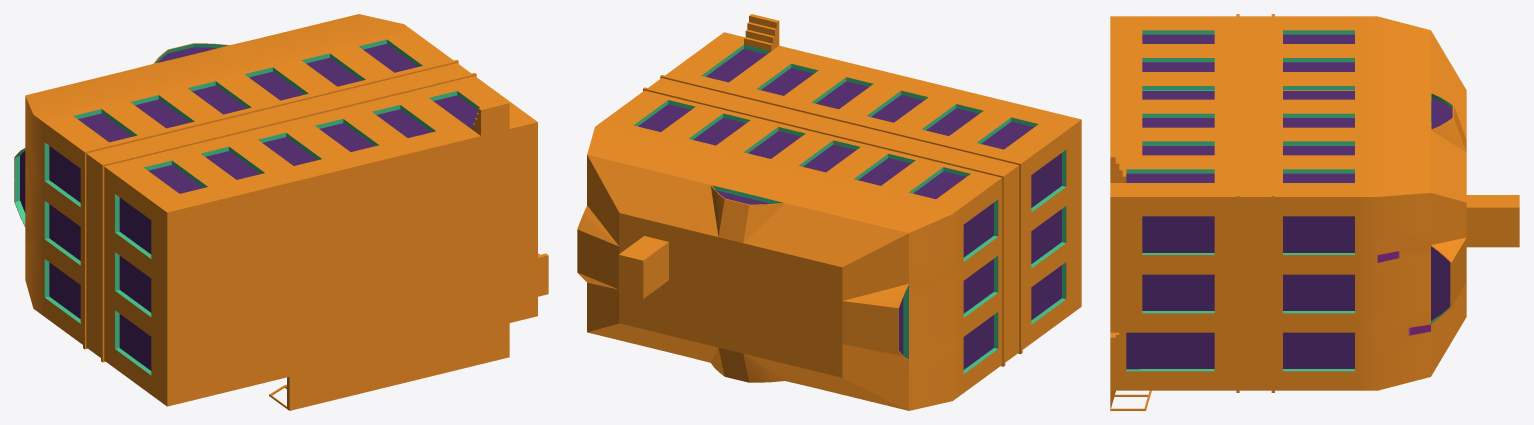
File: Dom Staroscinski.obj
3 views of the same model, side by side, from view 1: azimuth 30°, elevation 25°; view 2: azimuth 150°, elevation 25°; view 3: azimuth 270°, elevation 25° (orthographic). The views are drawn at different scales.
Parts seen in each view (by area): view 1: Dom_Starościński_Cube.002; view 2: Dom_Starościński_Cube.002; view 3: Dom_Starościński_Cube.002.
Boxes of the visible parts, box(x1,y1,x2,y2) form: Dom_Starościński_Cube.002: box(14, 14, 548, 410); Dom_Starościński_Cube.002: box(577, 14, 1081, 410); Dom_Starościński_Cube.002: box(1110, 14, 1519, 410).
Bounding box in the file's own units: 38.61 × 24.48 × 35.8.
